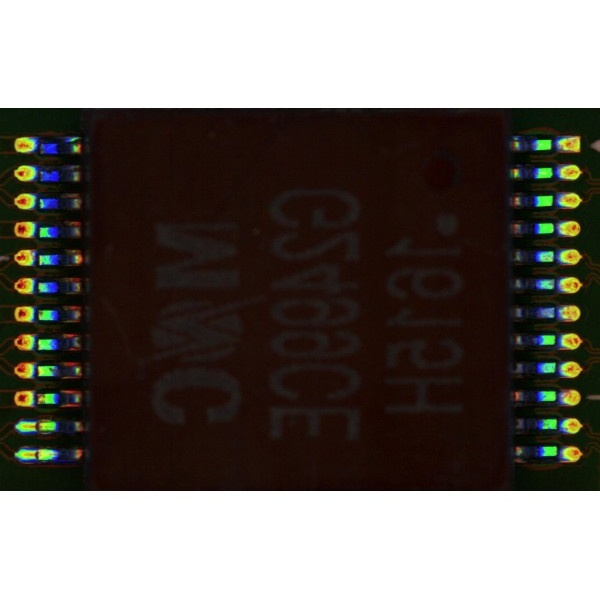Bad_podu: (25, 450, 44, 458), (23, 424, 46, 430)
